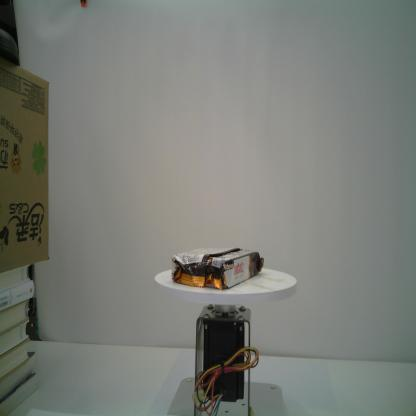Dessert: (171, 247, 264, 290)
